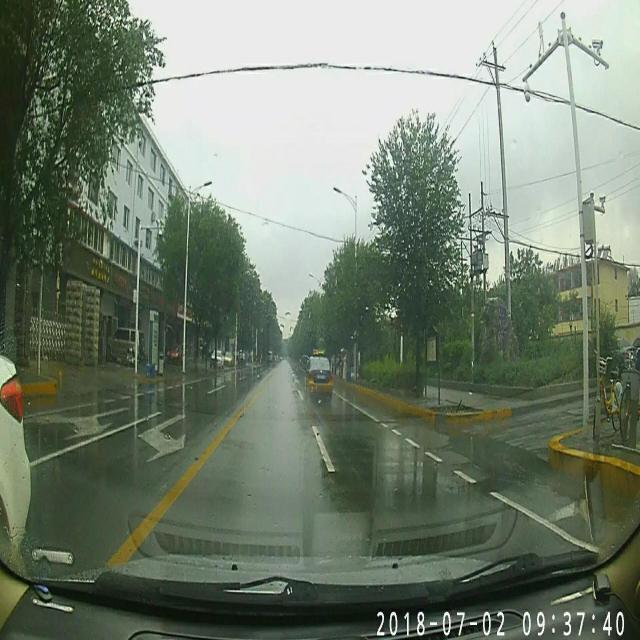car: (304, 350, 336, 396)
